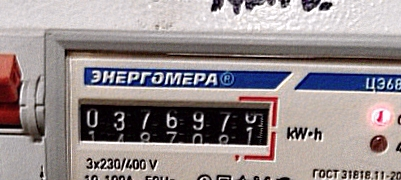0: (85, 106, 99, 128)
1: (243, 125, 255, 145)
3: (112, 109, 127, 131)
6: (164, 106, 179, 129)
7: (137, 106, 152, 130), (218, 109, 232, 132)
9: (190, 108, 205, 131)
screen: (69, 89, 280, 164)
